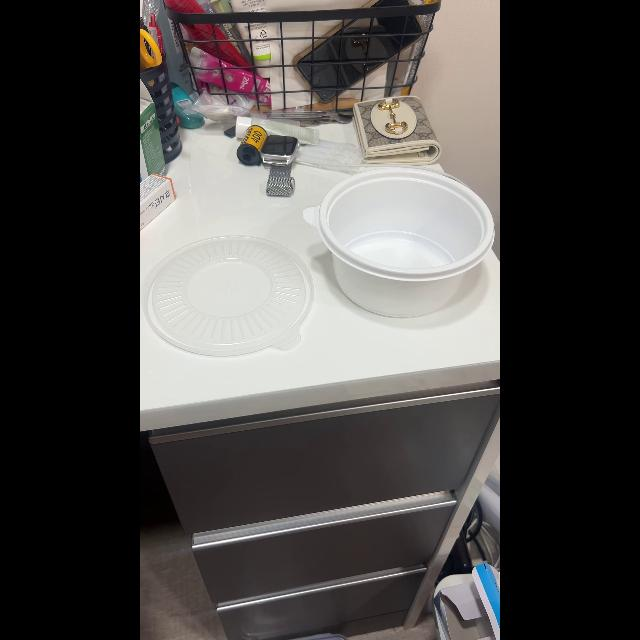clean: (306, 169, 492, 313), (146, 239, 308, 349)
